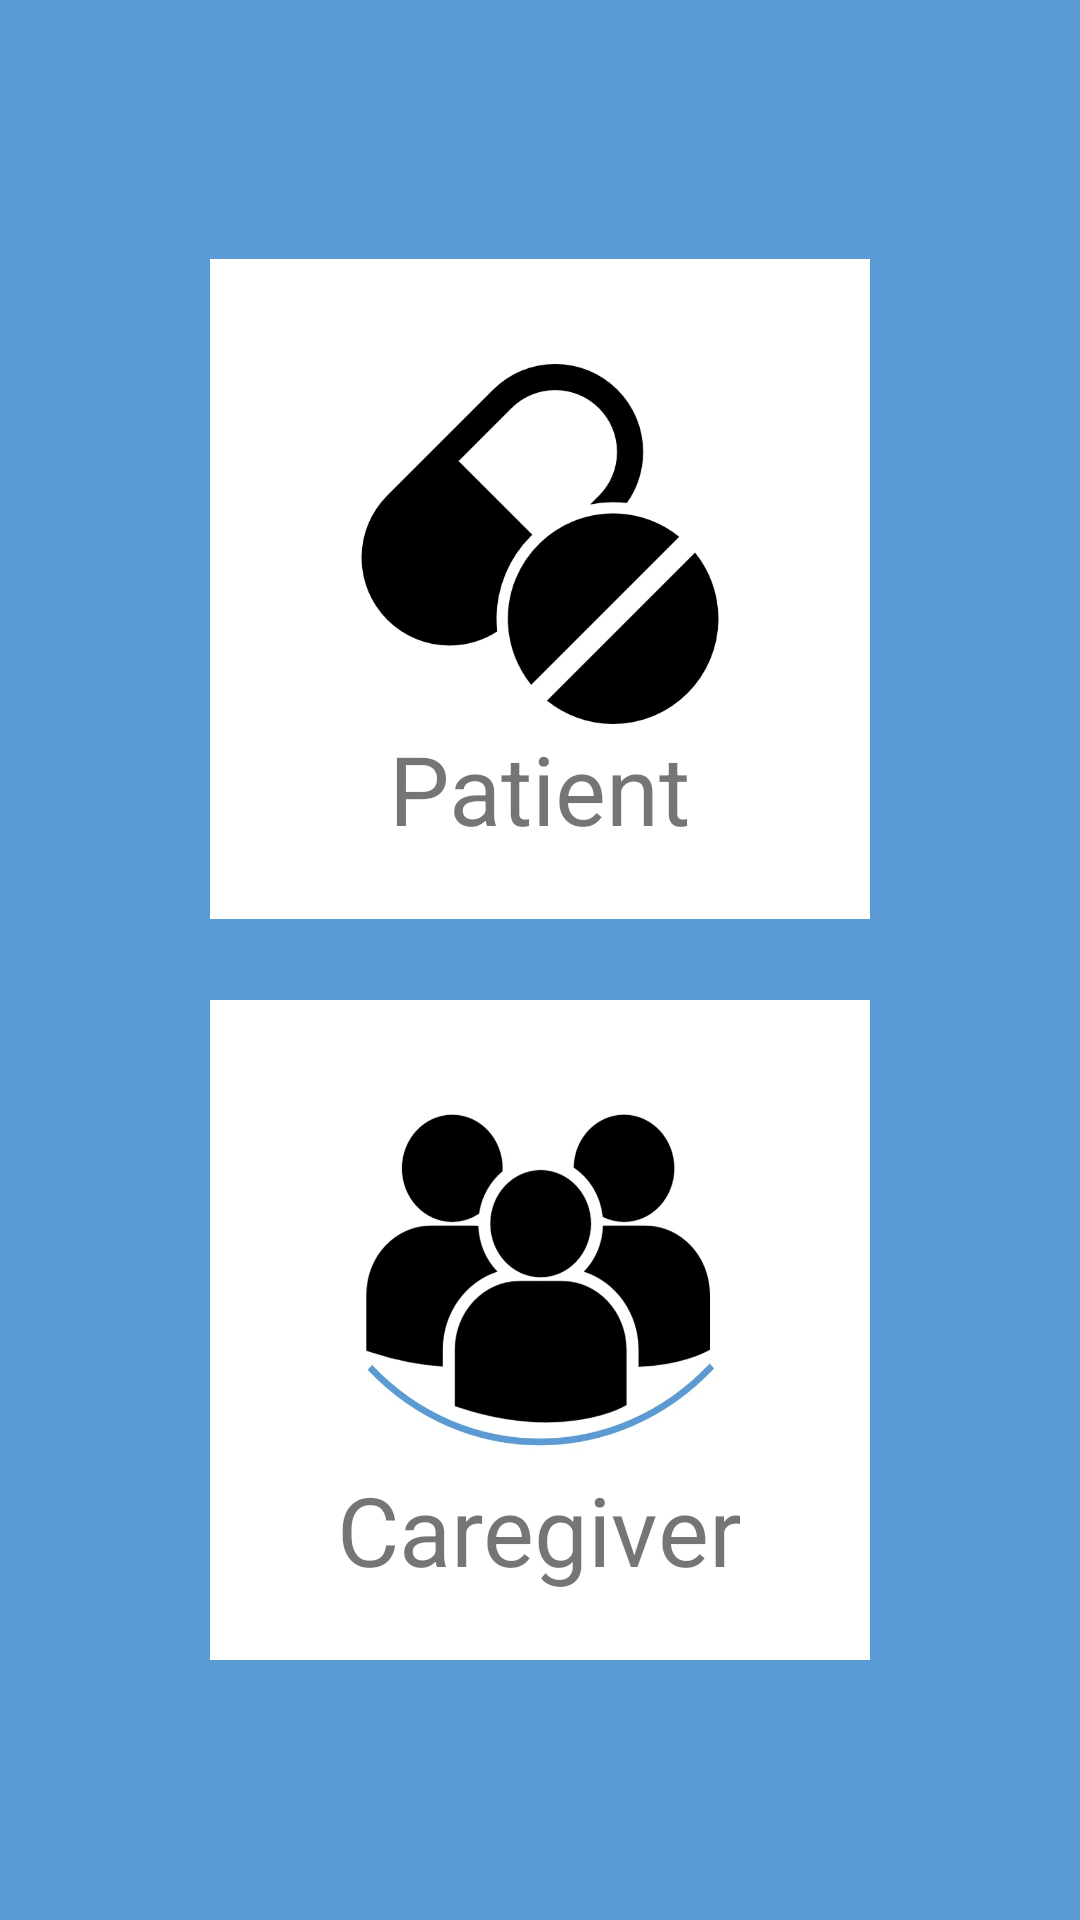

Screen size 1080px×1920px. Icon name, then its box in pixels as rect(x1, y1, x2, y2):
familymember: rect(366, 1114, 714, 1446)
